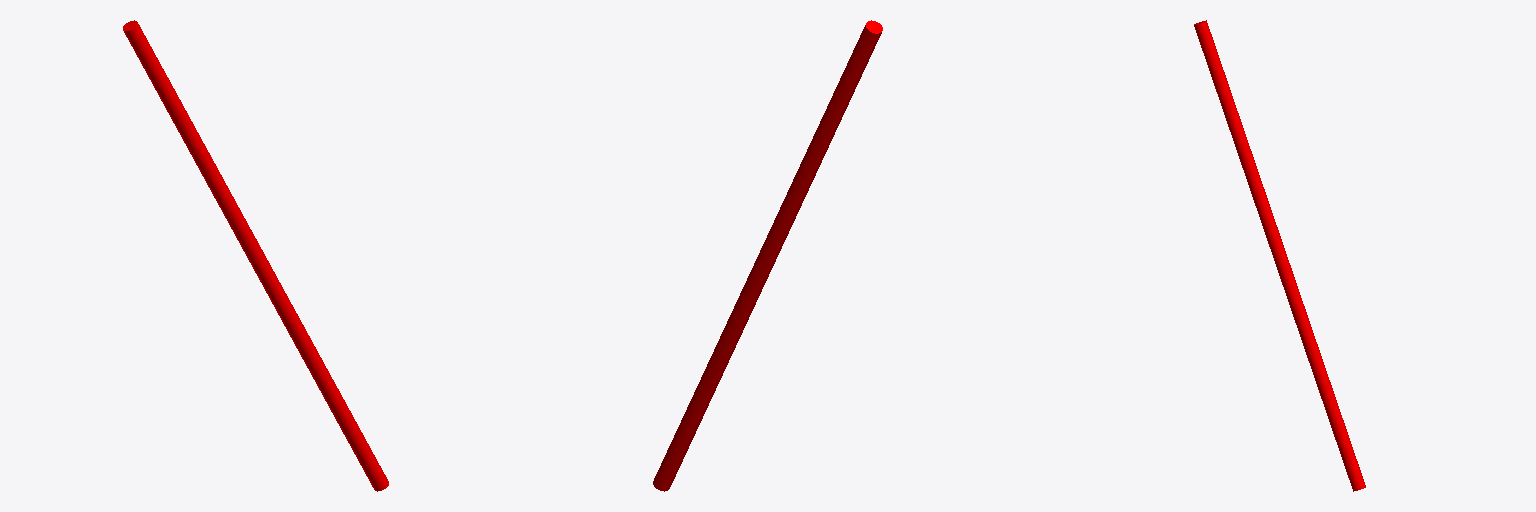
robot.urdf — tree_13.urdf:
<?xml version='1.0' encoding='utf-8'?>
<robot name="tree_13.urdf">
  <link name="branch_0">
    <inertial>
      <origin xyz="0.0 0.0 0.0" rpy="0.0 -0.0 0.0" />
      <mass value="1.0" />
      <inertia ixx="1.0" ixy="0.0" ixz="0.0" iyy="1.0" iyz="0.0" izz="1.0" />
    </inertial>
    <visual name="branch_0_visual">
      <geometry>
        <cylinder radius="0.03091524220594921" length="2.2322939761545797" />
      </geometry>
      <material name="semantic_material" />
      <origin xyz="-0.47494068358090136 0.10504075664801886 1.0045804524857747" rpy="2.7100681352847192e-17 0.45092780575839886 2.923930399168655" />
    </visual>
    <collision name="branch_0_collision">
      <geometry>
        <cylinder radius="0.03091524220594921" length="2.2322939761545797" />
      </geometry>
      <origin xyz="-0.47494068358090136 0.10504075664801886 1.0045804524857747" rpy="2.7100681352847192e-17 0.45092780575839886 2.923930399168655" />
    </collision>
  </link>
  <material name="semantic_material">
    <color rgba="1. 0. 0. 1." />
  </material>
</robot>

--- Render facts (derived) ---
The picture shows the robot from 3 angles, left to right: view 1: azimuth 30°, elevation 25°; view 2: azimuth 150°, elevation 25°; view 3: azimuth 330°, elevation 25°; orthographic projection.
Model tree_13.urdf with 1 links and 0 joints (none), rooted at branch_0, posed all joints at 0.
Visible links, largest first — view 1: branch_0; view 2: branch_0; view 3: branch_0.
Boxes of the visible links, bbox=[...] form: branch_0: bbox=[123, 20, 388, 491]; branch_0: bbox=[653, 20, 882, 491]; branch_0: bbox=[1194, 20, 1365, 491].
Bounding box of the posed robot: 1.01 × 0.2716 × 2.04 m (x, y, z).
Geometry: primitives only (box / cylinder / sphere), no mesh files.
